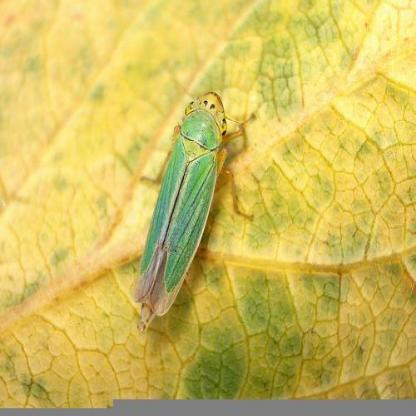Green-Leafhopper: (133, 86, 260, 340)
